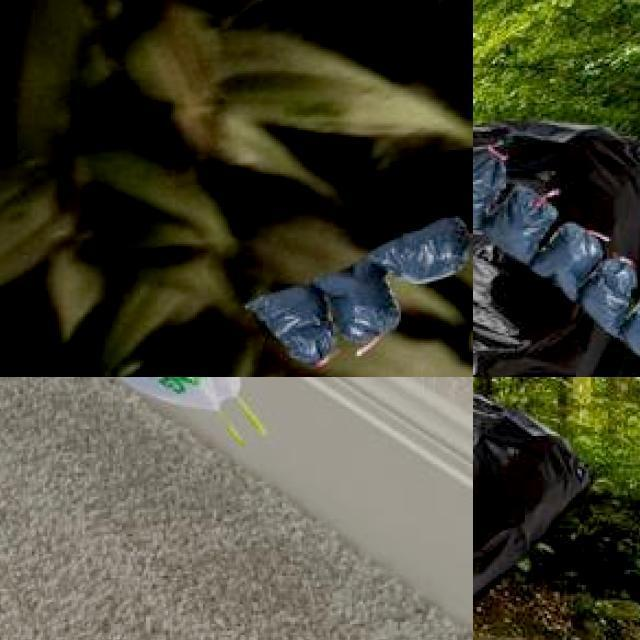waste: (473, 125, 640, 377), (473, 377, 584, 640), (14, 377, 308, 436), (320, 266, 398, 352), (256, 284, 336, 364), (362, 224, 472, 278), (492, 180, 556, 262), (582, 255, 633, 340), (542, 221, 598, 297), (473, 142, 501, 229), (624, 287, 640, 363)
